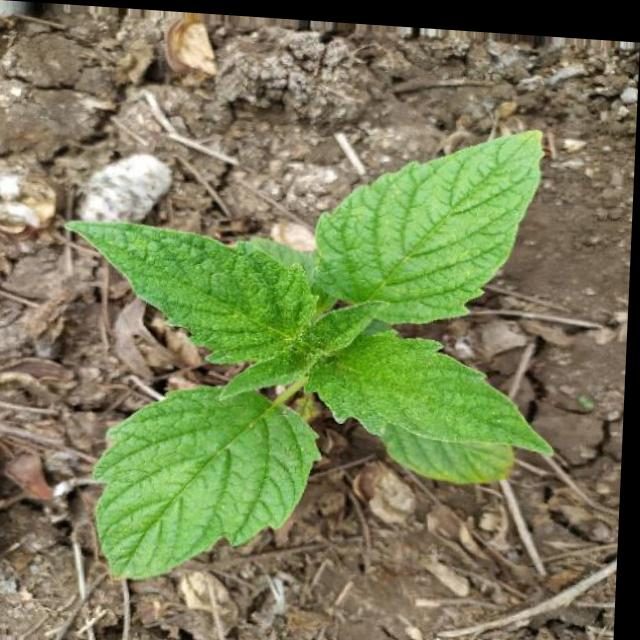crop: (44, 95, 592, 620)
